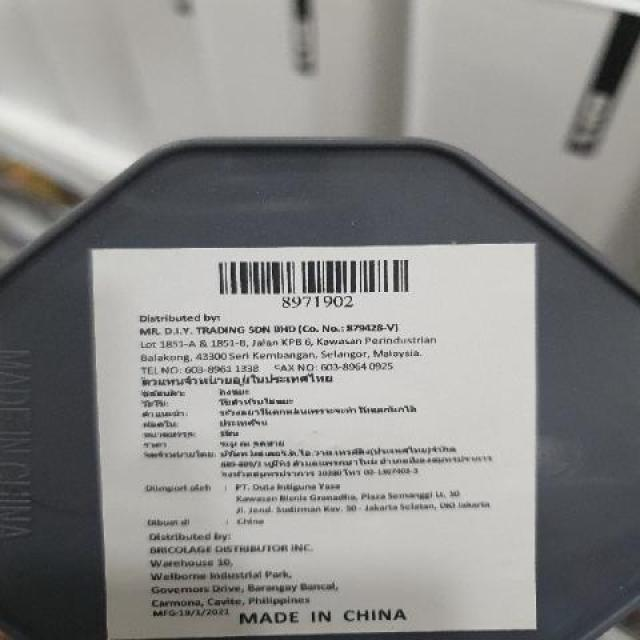Barcode: (211, 253, 421, 310)
